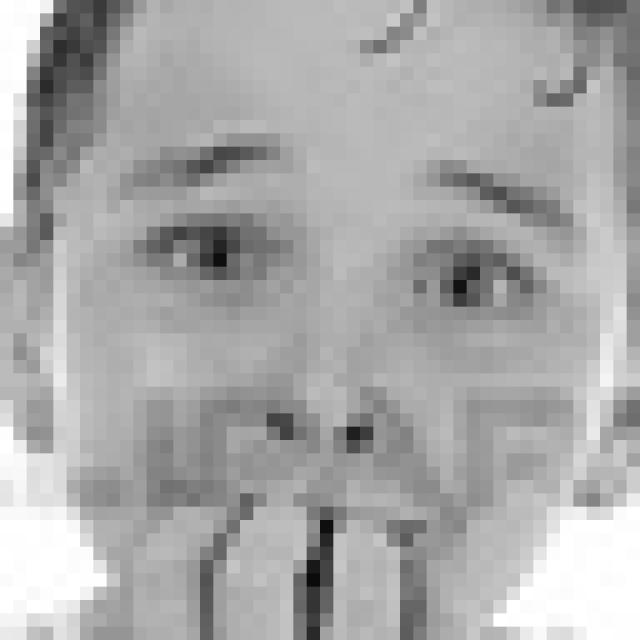fear: (112, 133, 591, 601)
